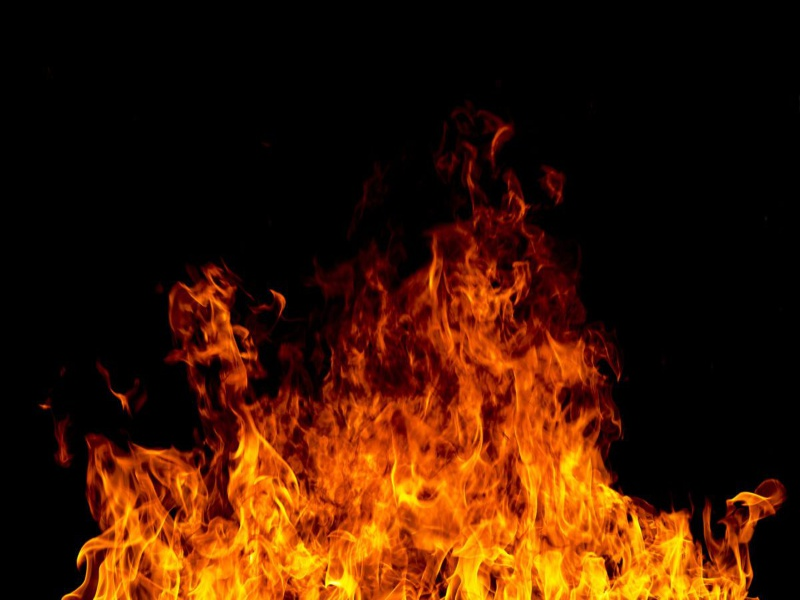fire: (55, 108, 794, 600)
